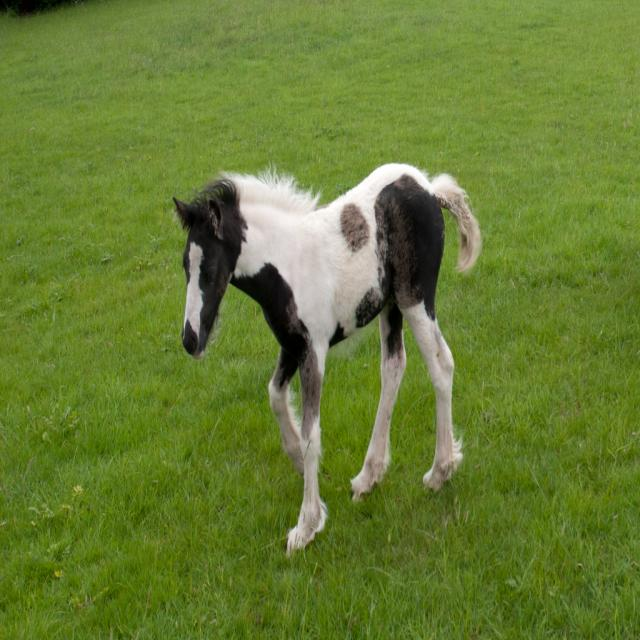Horse: (172, 162, 482, 558)
